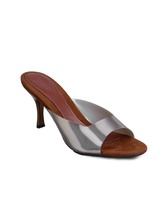shoes: (11, 64, 159, 157)
